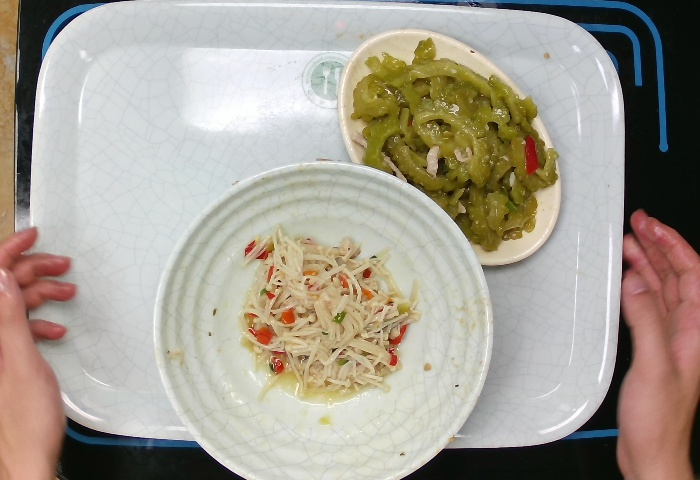JYsf-Da_Tang_Wan: (148, 157, 496, 480)
JYsf-Tuo_Yuan_Wan: (336, 25, 566, 271)
